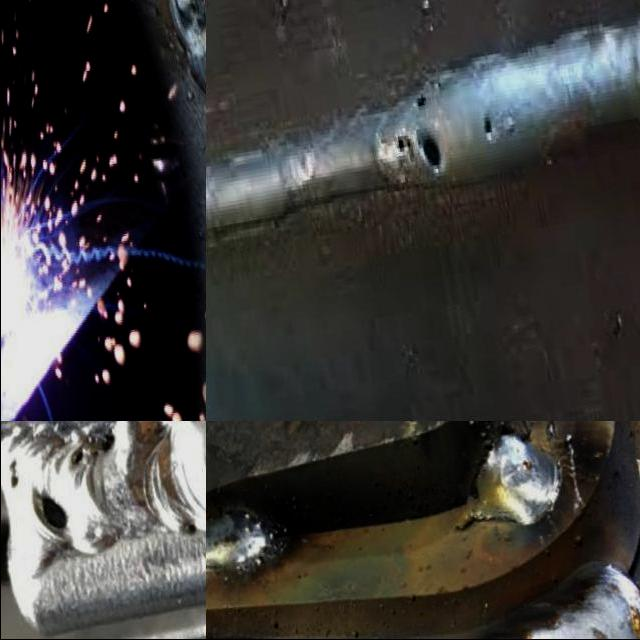defect: (28, 483, 73, 540), (66, 426, 118, 474), (394, 133, 445, 176), (173, 0, 205, 36), (410, 81, 432, 119), (477, 112, 498, 145), (185, 519, 200, 538)
